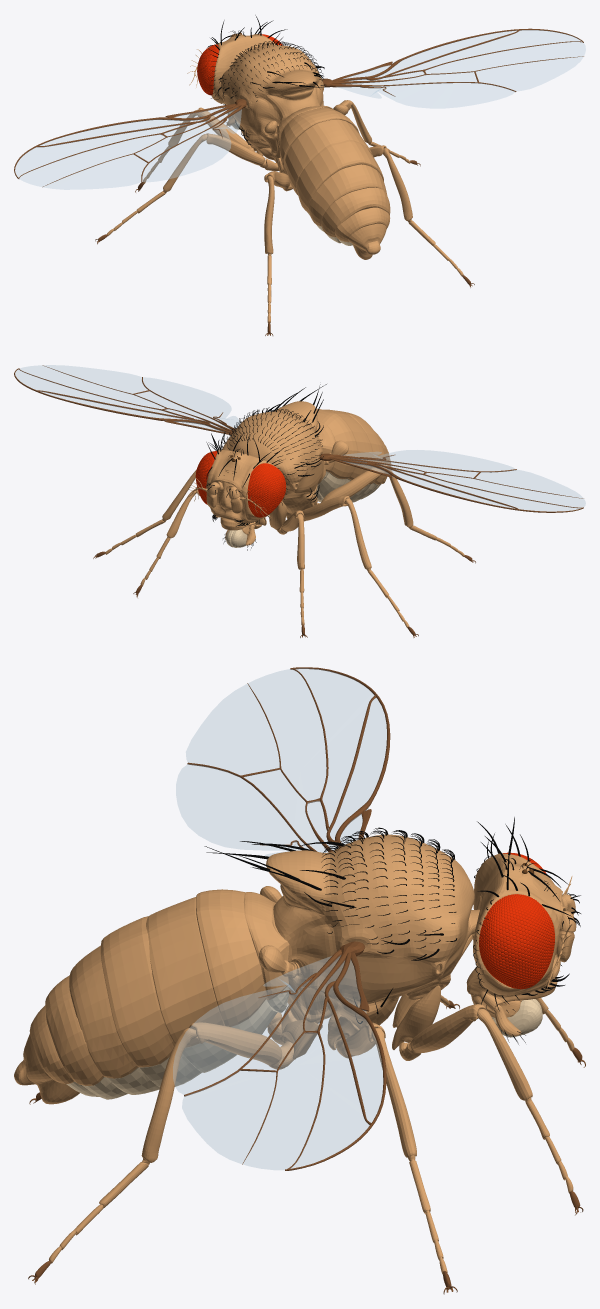
File: fly.glb
The picture shows the model from 3 angles, top to bottom: view 1: azimuth 30°, elevation 25°; view 2: azimuth 150°, elevation 25°; view 3: azimuth 270°, elevation 25°; orthographic projection. The views are drawn at different scales.
Visible parts, largest first — view 1: wing_left__wing_left_membrane, wing_right__wing_right_membrane, thorax__thorax, wing_right__wing_right_brown, abdomen_4__abdomen_4, wing_left__wing_left_brown, abdomen_3__abdomen_3, abdomen_5__abdomen_5, abdomen_6__abdomen_6, head__head, abdomen_2__abdomen_2, thorax__thorax_black (+8 smaller); view 2: wing_left__wing_left_membrane, wing_right__wing_right_membrane, thorax__thorax, head__head, wing_left__wing_left_brown, head__head_red, wing_right__wing_right_brown, thorax__thorax_black, abdomen_2__abdomen_2, abdomen_3__abdomen_3, femur_T3_left__femur_T3_left, head__head_black (+12 smaller); view 3: wing_right__wing_right_membrane, wing_left__wing_left_membrane, thorax__thorax, abdomen_3__abdomen_3, abdomen_4__abdomen_4, abdomen_2__abdomen_2, head__head_red, head__head, wing_right__wing_right_brown, abdomen_5__abdomen_5, thorax__thorax_black, wing_left__wing_left_brown (+19 smaller).
Part boxes in pixels (x1,y1,x2,y2): wing_left__wing_left_membrane: (15,107,241,189); wing_right__wing_right_membrane: (337,30,585,108); thorax__thorax: (221,45,323,158); wing_right__wing_right_brown: (322,28,583,96); abdomen_4__abdomen_4: (296,139,383,212); wing_left__wing_left_brown: (14,99,246,187); abdomen_3__abdomen_3: (285,119,372,194); abdomen_5__abdomen_5: (308,164,386,226); abdomen_6__abdomen_6: (321,187,390,241); head__head: (211,34,275,104); abdomen_2__abdomen_2: (279,107,359,174); thorax__thorax_black: (217,41,325,144); wing_left__wing_left_membrane: (343,450,585,511); wing_right__wing_right_membrane: (15,365,239,431); thorax__thorax: (222,401,325,513); head__head: (206,449,276,523); wing_left__wing_left_brown: (319,453,583,512); head__head_red: (195,451,286,517); wing_right__wing_right_brown: (14,365,235,434); thorax__thorax_black: (218,384,326,502); abdomen_2__abdomen_2: (316,408,358,478); abdomen_3__abdomen_3: (323,409,373,480); femur_T3_left__femur_T3_left: (317,464,386,504); head__head_black: (206,432,289,526); wing_right__wing_right_membrane: (173,955,382,1169); wing_left__wing_left_membrane: (176,668,386,856); thorax__thorax: (266,834,479,1029); abdomen_3__abdomen_3: (146,897,223,1047); abdomen_4__abdomen_4: (100,916,174,1067); abdomen_2__abdomen_2: (196,889,266,1026); head__head_red: (479,852,554,989); head__head: (472,853,567,995); wing_right__wing_right_brown: (184,941,386,1170); abdomen_5__abdomen_5: (69,945,137,1078); thorax__thorax_black: (204,827,457,1023); wing_left__wing_left_brown: (187,667,390,852).
Size of the model in its own units: 0.6116 by 0.2077 by 0.2942.
